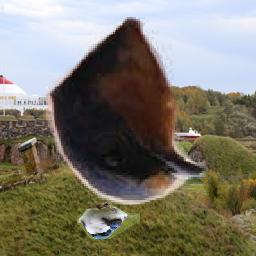Swallow: (46, 18, 208, 207), (78, 203, 141, 240)
